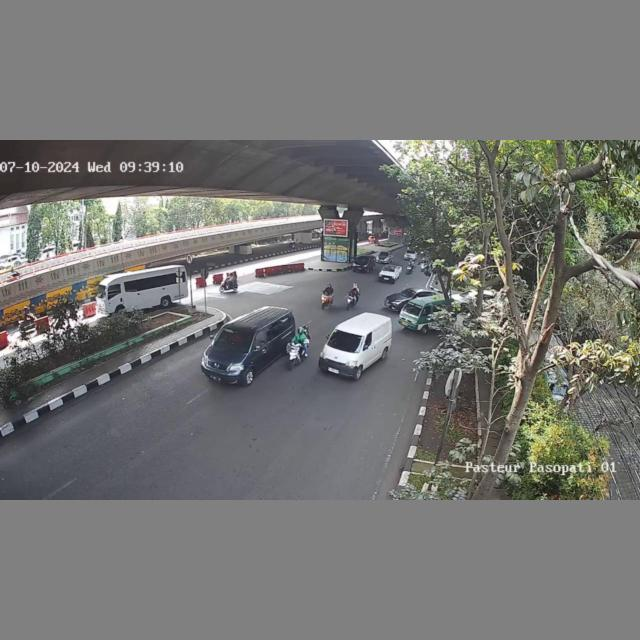windshield: (324, 328, 366, 353), (214, 326, 254, 352), (402, 303, 423, 315)
